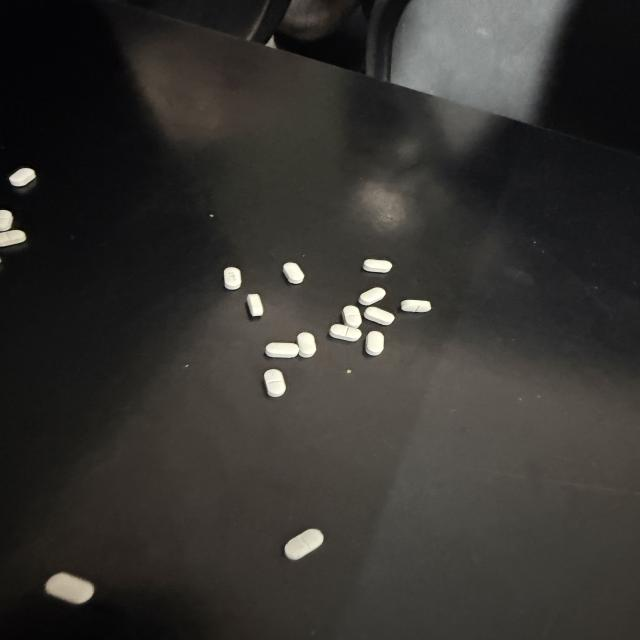pill: (45, 573, 94, 604), (285, 529, 323, 560), (264, 369, 286, 397), (363, 307, 395, 325), (330, 324, 361, 341), (265, 343, 299, 357), (297, 332, 316, 357), (359, 287, 385, 305), (9, 168, 35, 186), (283, 263, 304, 284), (366, 331, 384, 355), (342, 306, 361, 328), (0, 230, 26, 246), (363, 259, 392, 272), (224, 267, 241, 289), (401, 300, 431, 312), (247, 294, 263, 316), (0, 210, 13, 231)
